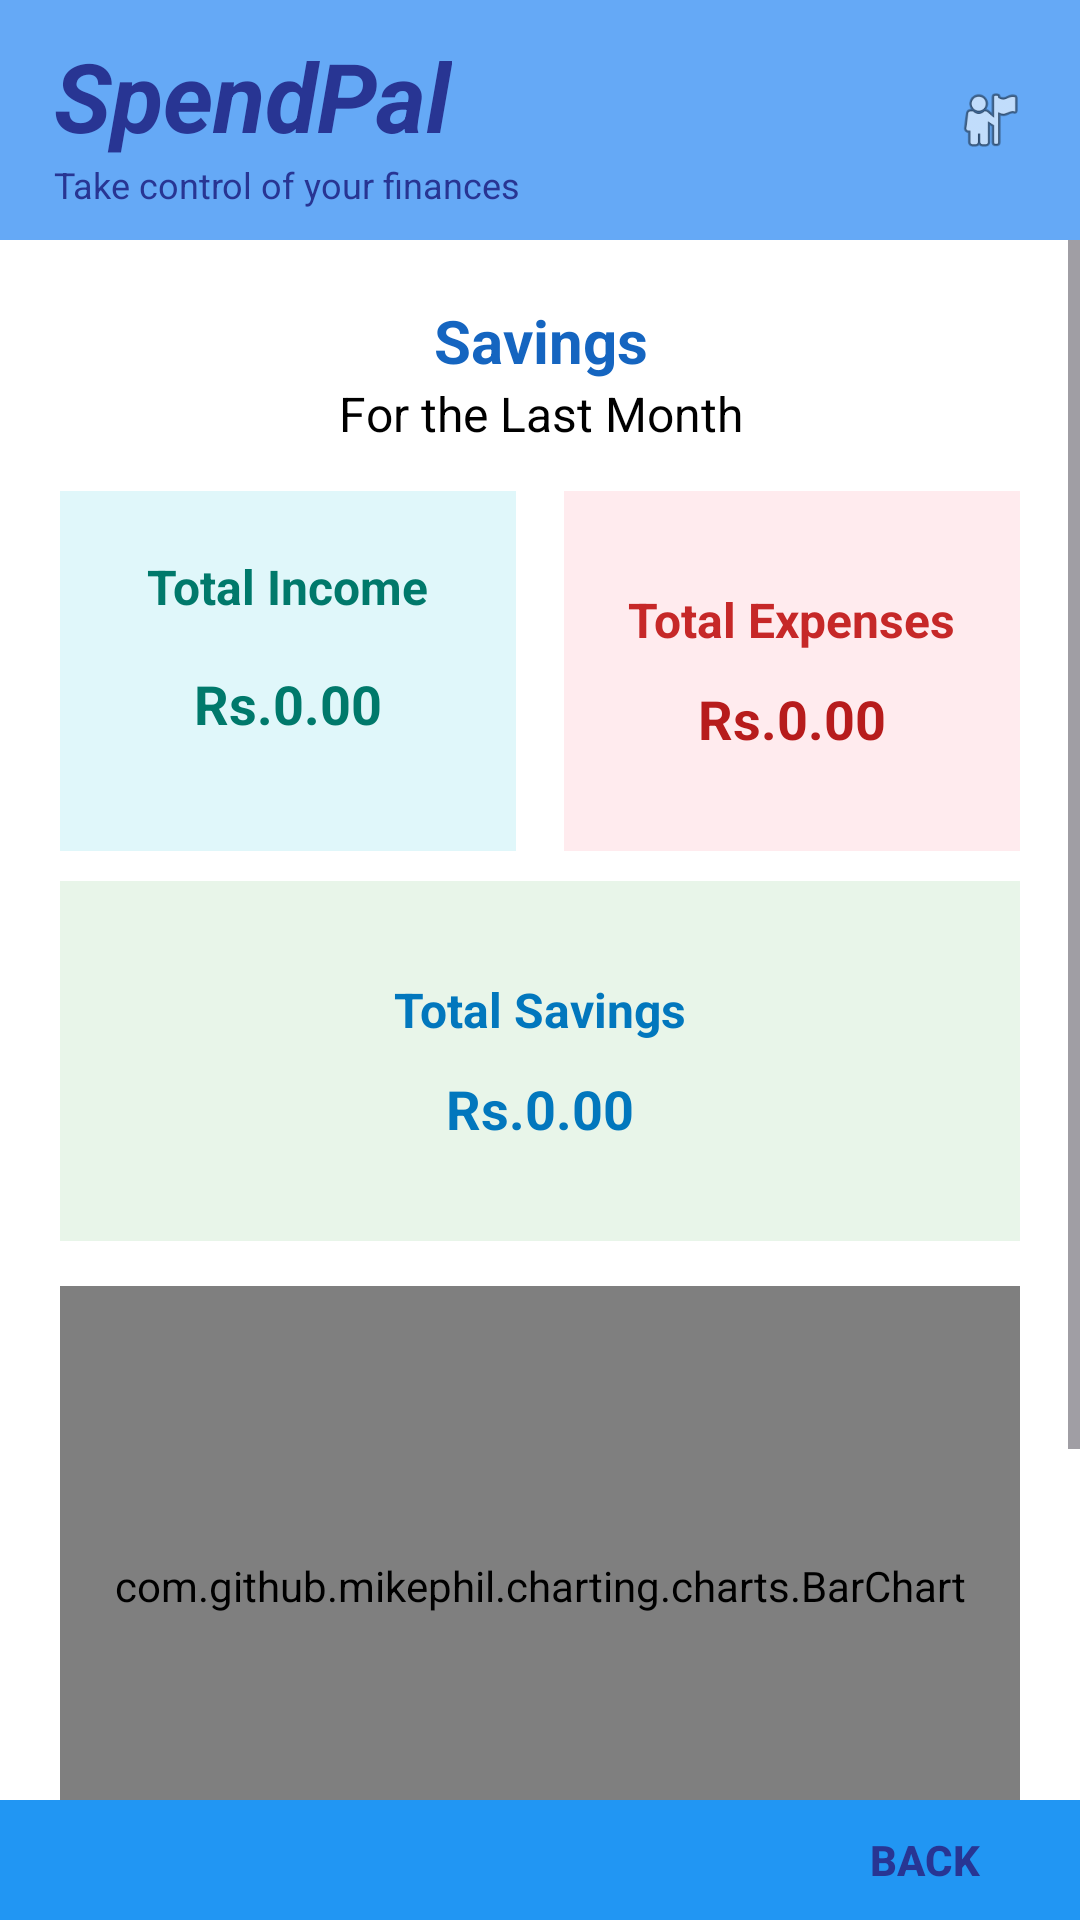

Named icons in this screenshot (1080px x 1920px) and their centers, [x,y]:
Profile: [991,120]
